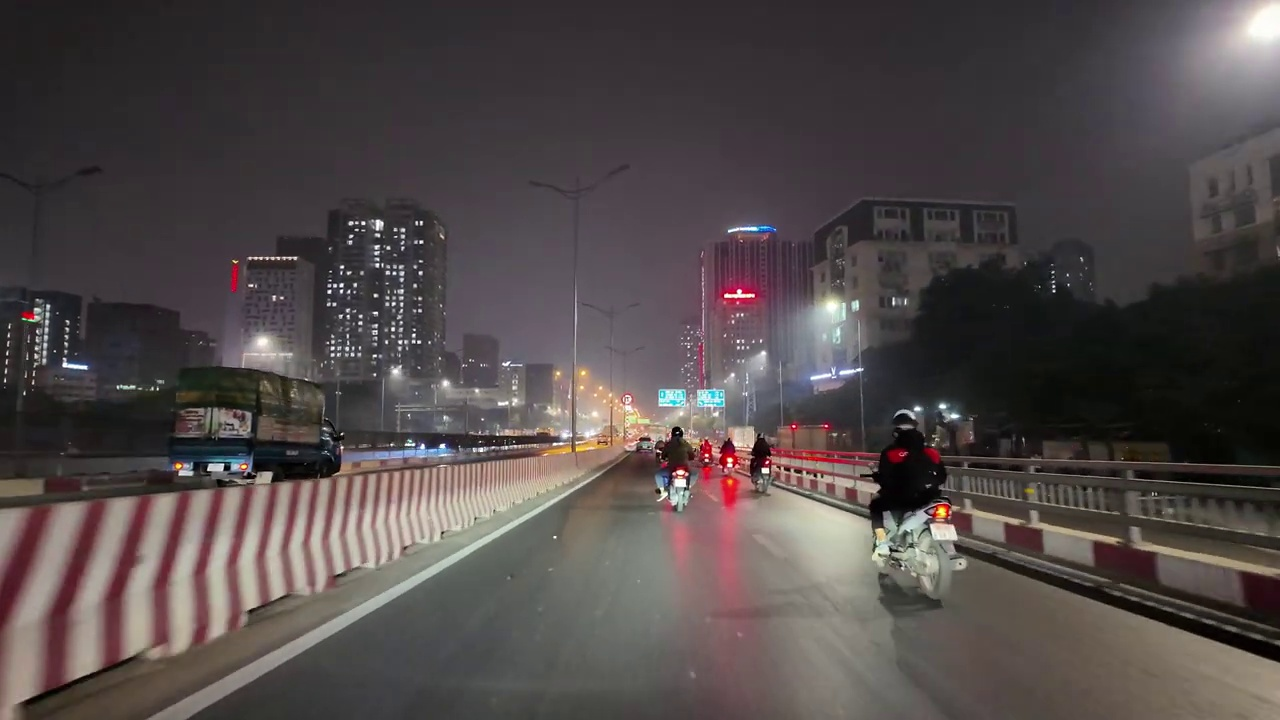acesa: (1240, 3, 1279, 49), (251, 333, 277, 359)
